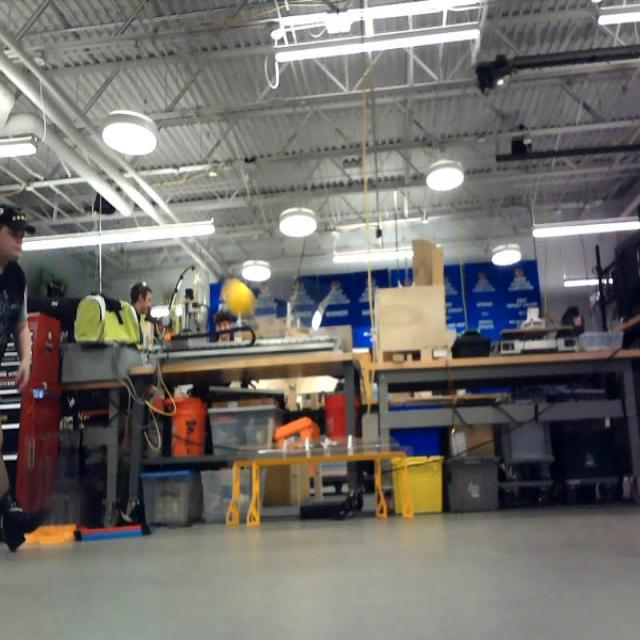Fuel: (228, 284, 254, 315)
